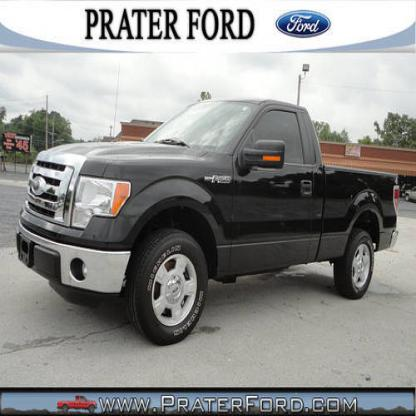Vehicle: (16, 101, 401, 345)
